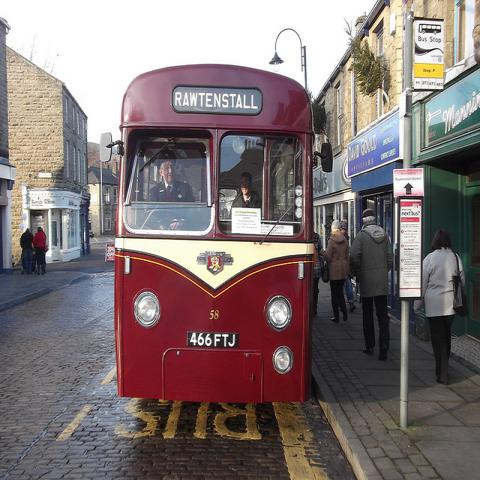bus: (100, 63, 332, 406)
